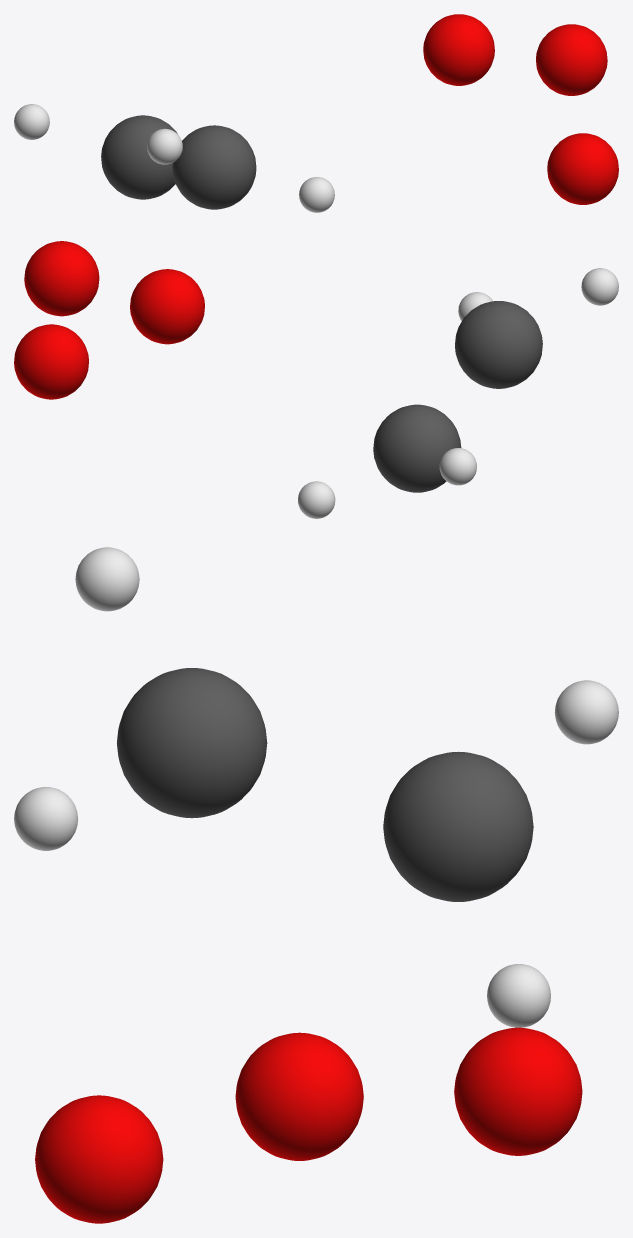
File: Ozone_Ethylene.fbx
The picture shows the model from 3 angles, top to bottom: view 1: azimuth 30°, elevation 25°; view 2: azimuth 150°, elevation 25°; view 3: azimuth 270°, elevation 25°; orthographic projection. The views are drawn at different scales.
Visible parts, largest first — view 1: C04, C07, O02, O01, O03, H06, H08, H05; view 2: C04, C07, O02, O03, O01, H09, H05, H08, H06; view 3: C04, C07, O03, O01, O02, H05, H08, H06, H09.
Boxes of the visible parts, x1=… form: C04: x1=172, y1=125, x2=256, y2=209; C07: x1=101, y1=115, x2=177, y2=199; O02: x1=536, y1=24, x2=607, y2=95; O01: x1=423, y1=14, x2=494, y2=85; O03: x1=547, y1=133, x2=618, y2=204; H06: x1=299, y1=177, x2=334, y2=212; H08: x1=14, y1=104, x2=49, y2=139; H05: x1=147, y1=128, x2=182, y2=164; C04: x1=455, y1=301, x2=542, y2=388; C07: x1=373, y1=404, x2=461, y2=492; O02: x1=24, y1=241, x2=99, y2=316; O03: x1=130, y1=269, x2=204, y2=344; O01: x1=14, y1=324, x2=88, y2=399; H09: x1=298, y1=481, x2=335, y2=518; H05: x1=581, y1=268, x2=618, y2=305; H08: x1=439, y1=448, x2=476, y2=485; H06: x1=458, y1=292, x2=492, y2=321; C04: x1=117, y1=668, x2=267, y2=818; C07: x1=383, y1=751, x2=533, y2=901; O03: x1=35, y1=1095, x2=163, y2=1223; O01: x1=454, y1=1027, x2=582, y2=1155; O02: x1=235, y1=1032, x2=363, y2=1160; H05: x1=75, y1=547, x2=139, y2=611; H08: x1=554, y1=680, x2=618, y2=744; H06: x1=14, y1=787, x2=77, y2=850; H09: x1=487, y1=964, x2=550, y2=1027.
Size of the model in its own units: 521 by 186 by 302.
